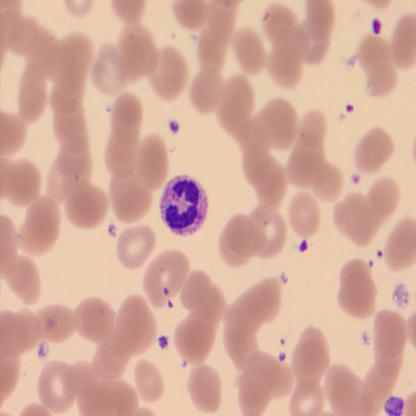Segmented neutrophil: (158, 172, 209, 237)
